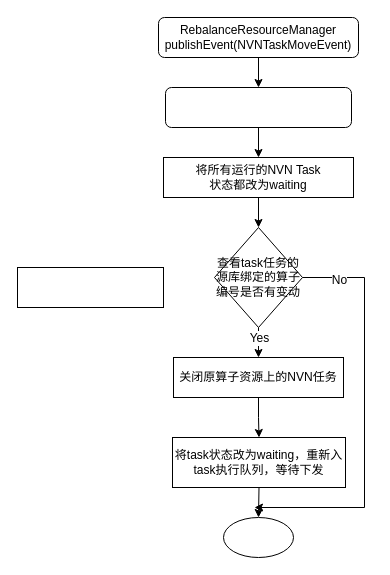
The diagram is 390 pixels wide and 575 high, and some of its shapes have lost their labels. The box of each missing label's shape, as (x1, y1, x2, y2) in pixels:
end: (222, 516, 294, 558)
有状态为逻辑删除的任务，则从数据表中删除: (16, 266, 164, 308)
查询出所有正在运行的NVN Task: (164, 86, 352, 128)
